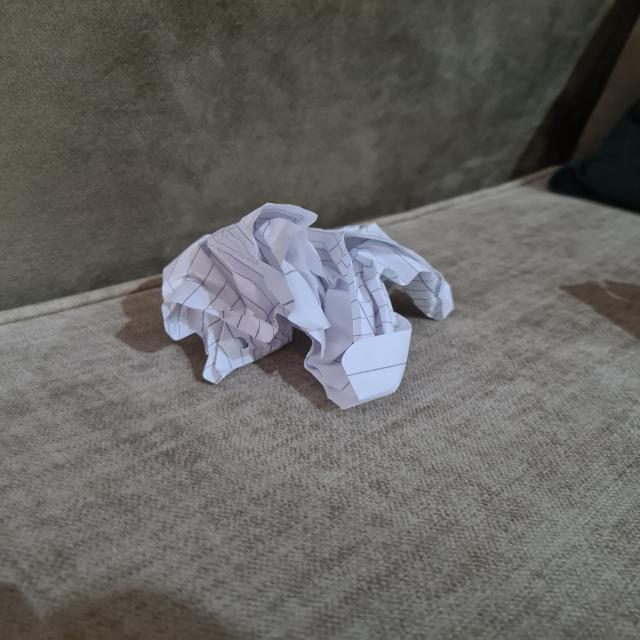Paper: (163, 206, 452, 409)
